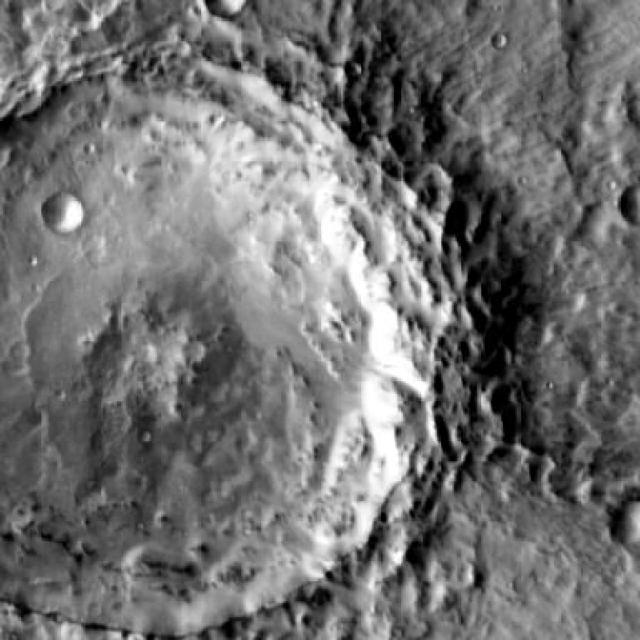crater: (0, 58, 451, 640), (39, 195, 78, 234), (202, 0, 244, 23), (490, 31, 505, 47)
